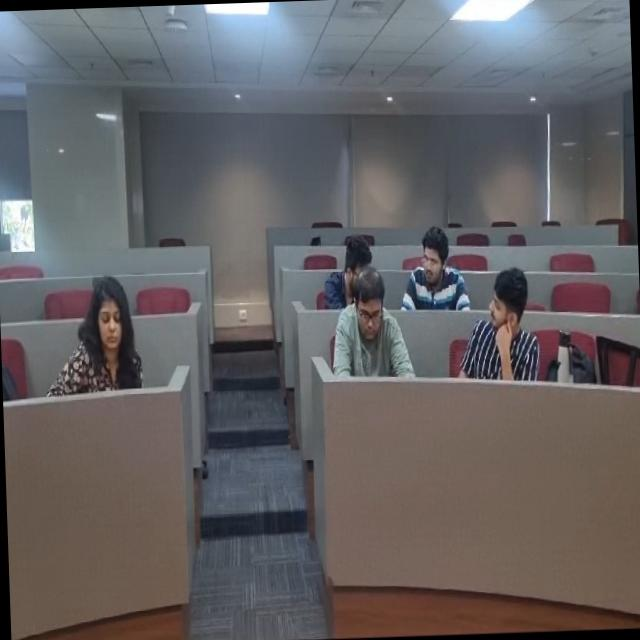cheating: (390, 213, 476, 319), (479, 262, 538, 379), (327, 221, 387, 304)
non-cheating: (81, 273, 142, 392), (350, 262, 405, 376)
